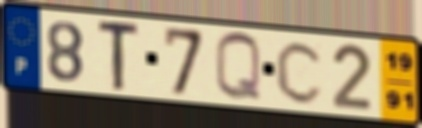2: (331, 42, 377, 113)
7: (162, 24, 205, 98)
8: (45, 18, 87, 83)
C: (273, 38, 327, 106)
Q: (212, 29, 264, 104)
T: (96, 20, 143, 93)
